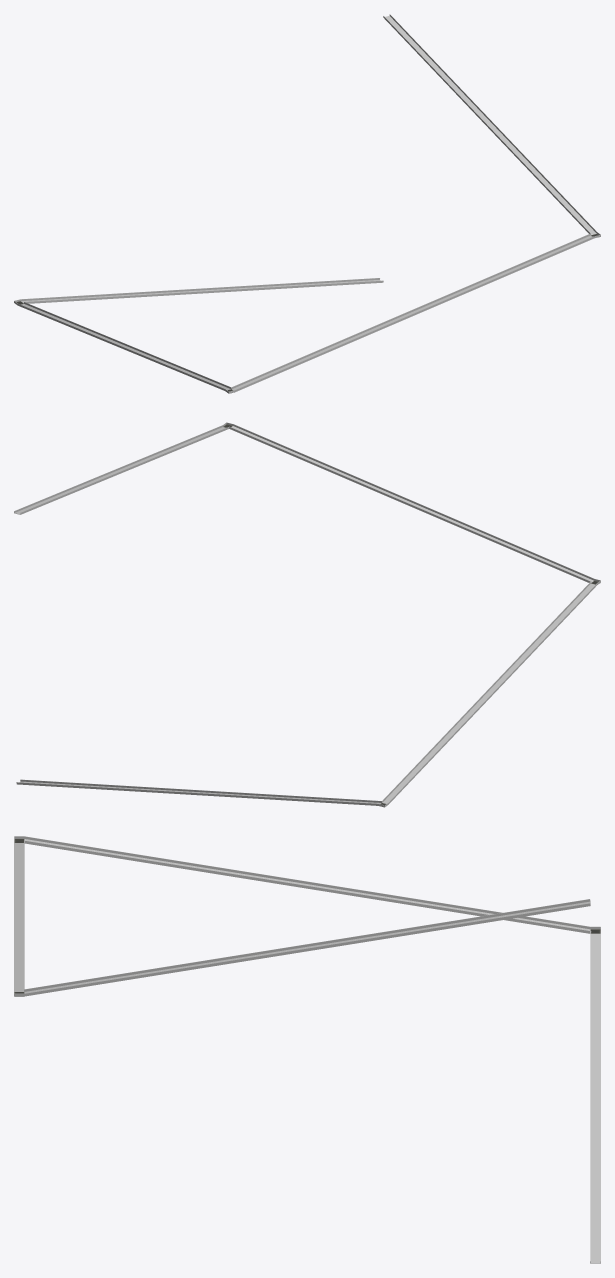
Rendered from stage2_track.obj.
The picture shows the model from 3 angles, top to bottom: view 1: azimuth 30°, elevation 25°; view 2: azimuth 150°, elevation 25°; view 3: azimuth 270°, elevation 25°; orthographic projection. The views are drawn at different scales.
Size of the model in its own units: 1225 by 840 by 1225.
